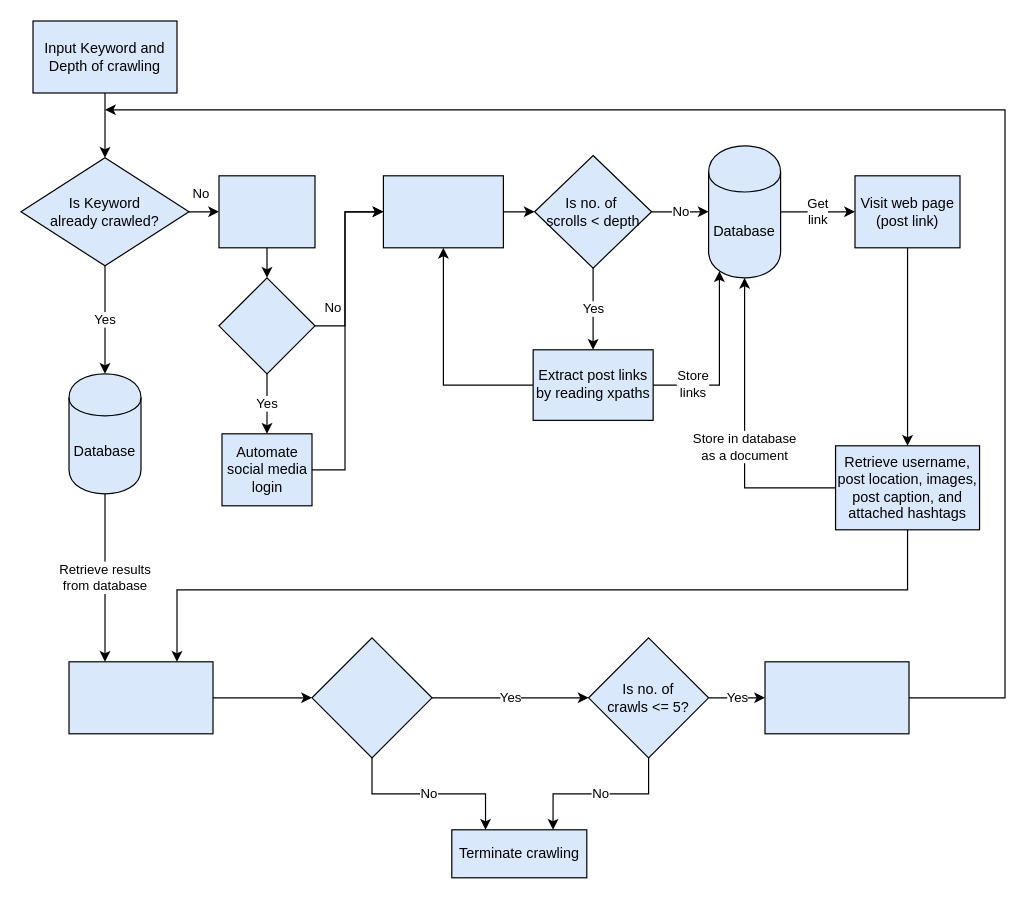
Image size: 1036x899. Some labels were removed from this diagram. Here are the shapes that lost their labels. From the top down, the centre of each, then its label:
At point (266, 211): "Open selenium web browser".
At point (442, 211): "Visit hashtags page of Instagram/Twitter".
At point (266, 325): "Is login required?".
At point (140, 697): "Display results on web page".
At point (371, 697): "Is crawling iterative?".
At point (836, 697): "Get most occurring Keyword".
